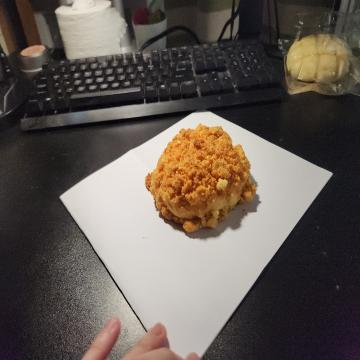soboru_bread: (146, 124, 257, 234)
